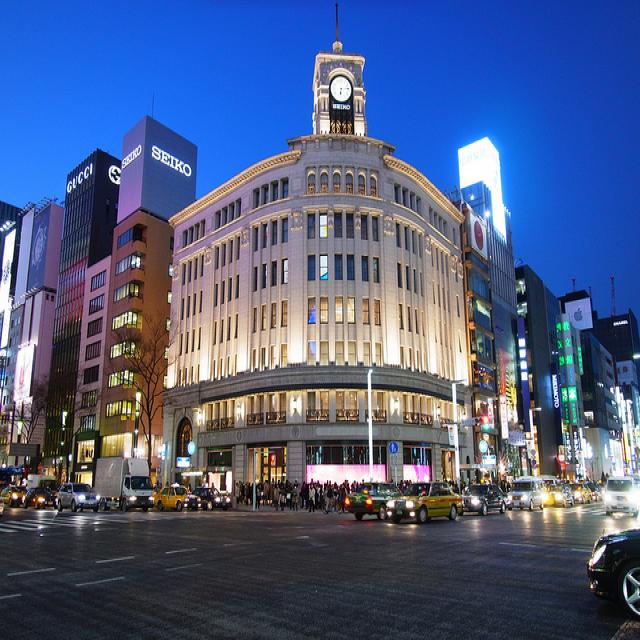Vehicle: (584, 528, 640, 625), (94, 458, 154, 512), (344, 483, 416, 523), (404, 486, 465, 521), (462, 484, 511, 516), (604, 476, 640, 518), (56, 481, 102, 513), (509, 477, 544, 512), (154, 486, 200, 508), (26, 474, 60, 496), (24, 488, 55, 508), (544, 483, 568, 506), (2, 486, 29, 506), (569, 482, 593, 504), (214, 490, 233, 508)
